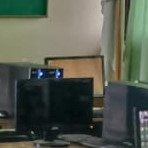monitor: (15, 77, 94, 136), (102, 80, 148, 144), (133, 106, 148, 146)
